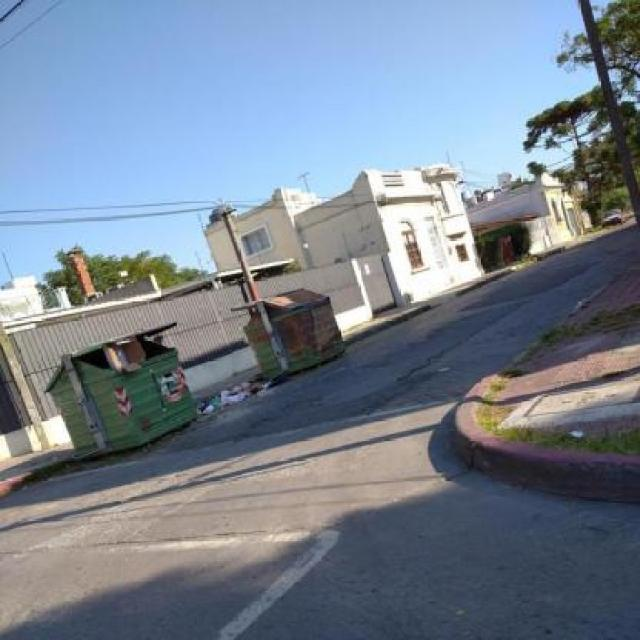garbage: (194, 380, 266, 424), (102, 334, 158, 371), (568, 423, 592, 450)
